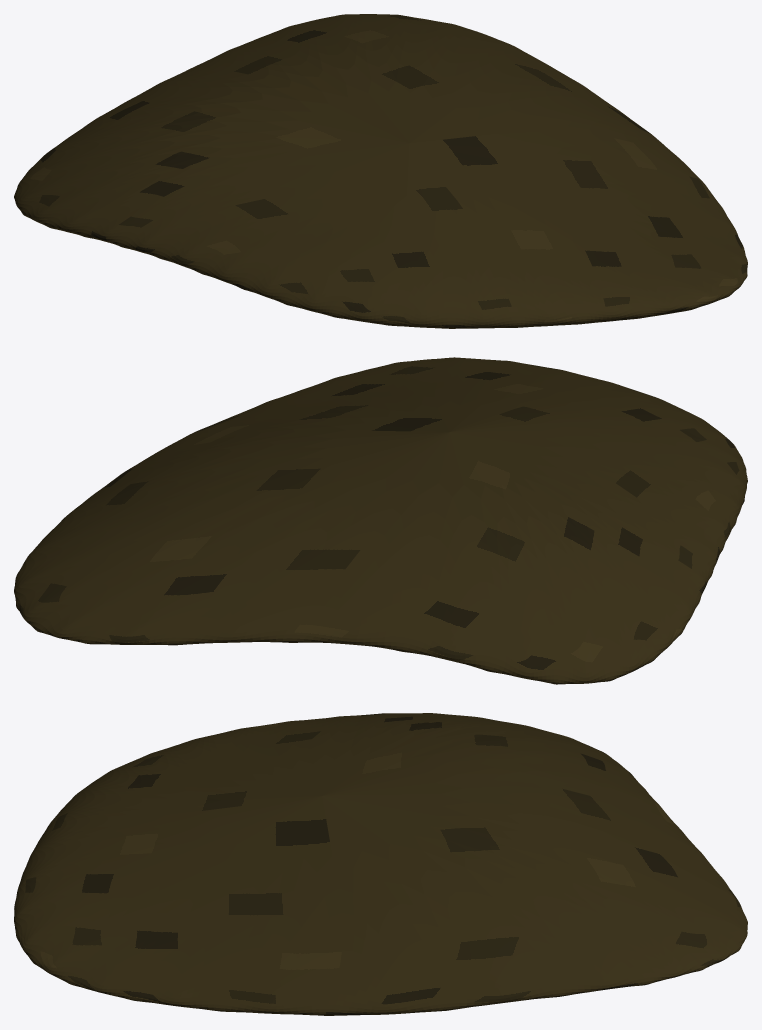
Rendered from buttedeterregazonifiee.obj.
3 renders of one model, top to bottom at view 1: azimuth 30°, elevation 25°; view 2: azimuth 150°, elevation 25°; view 3: azimuth 270°, elevation 25°, orthographic. The views are drawn at different scales.
Parts seen in each view (by area): view 1: Cône; view 2: Cône; view 3: Cône.
Boxes of the visible parts, bbox=[...] form: Cône: bbox=[14, 14, 747, 328]; Cône: bbox=[14, 357, 747, 684]; Cône: bbox=[14, 713, 747, 1015].
Size of the model in its own units: 1.54 by 0.2641 by 1.76.
